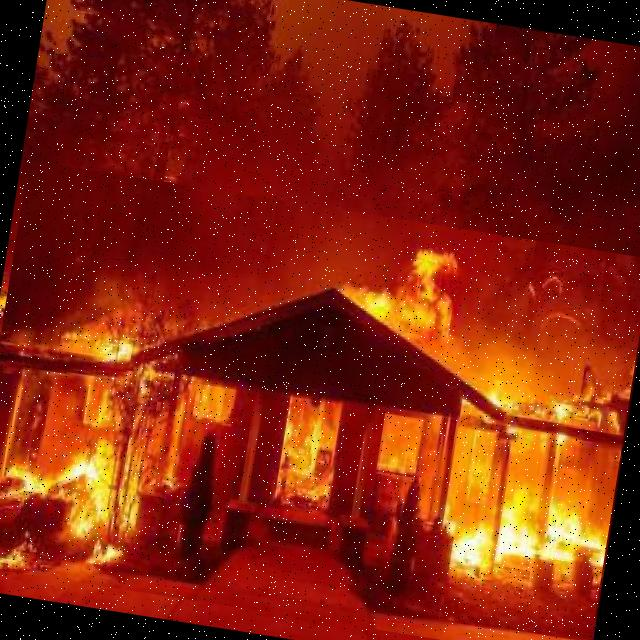fire: (0, 160, 640, 640)
